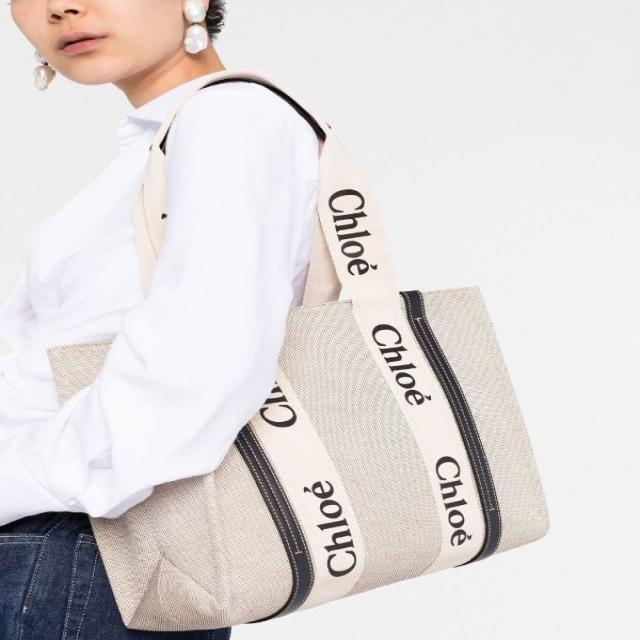handbag: (87, 73, 550, 631)
